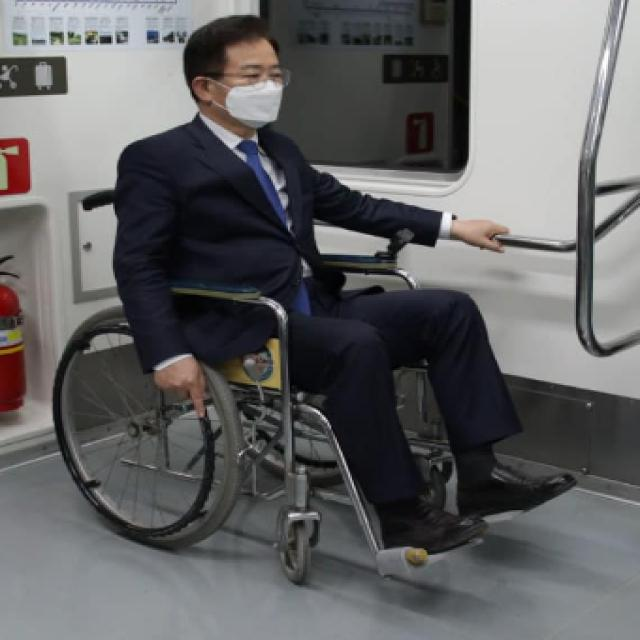wheelchair: (50, 11, 578, 585)
